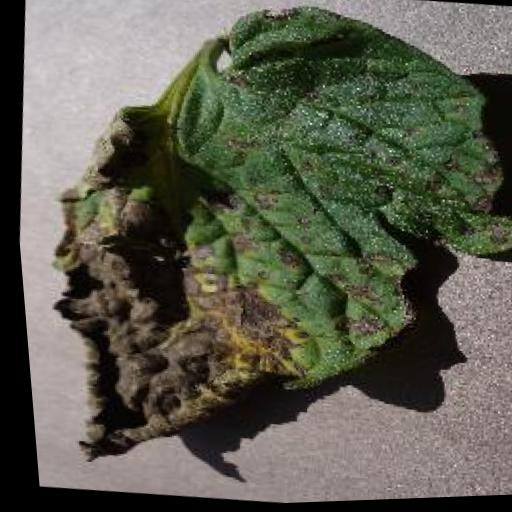Early Blight: (10, 0, 512, 512)
